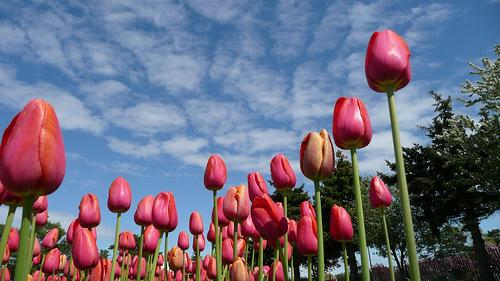tulip: (1, 99, 64, 196), (364, 29, 413, 94), (331, 95, 373, 150), (301, 129, 334, 179), (74, 227, 99, 268), (153, 189, 178, 229), (269, 152, 295, 189), (108, 174, 133, 212), (203, 152, 227, 189), (224, 184, 250, 218), (332, 203, 354, 240), (79, 192, 102, 225), (372, 176, 394, 210)
